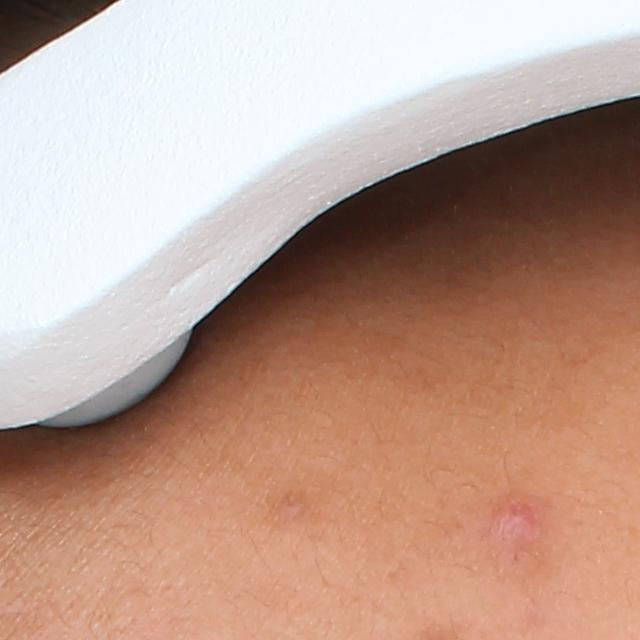papule: (486, 497, 545, 548)
